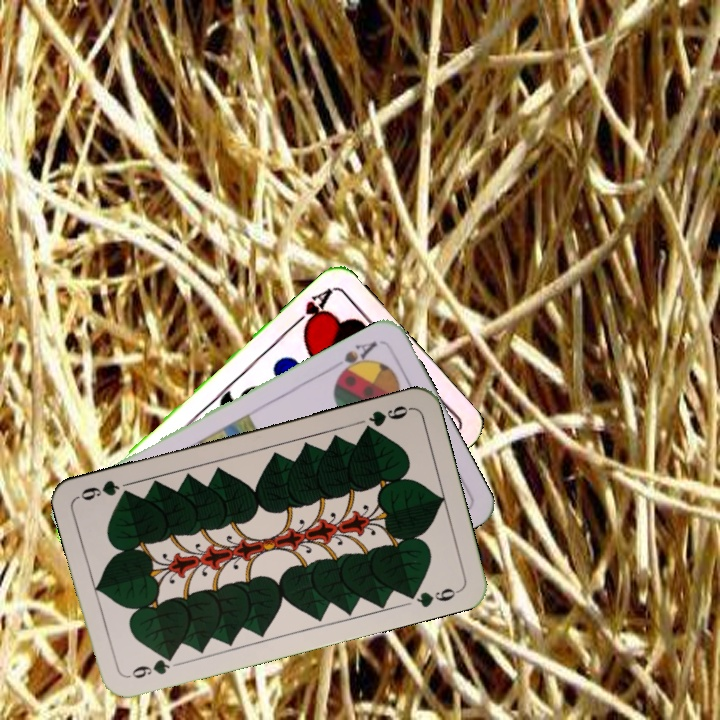G9: (358, 401, 414, 436), (123, 650, 178, 681)
HA: (288, 283, 336, 335)
SA: (327, 336, 380, 380)
